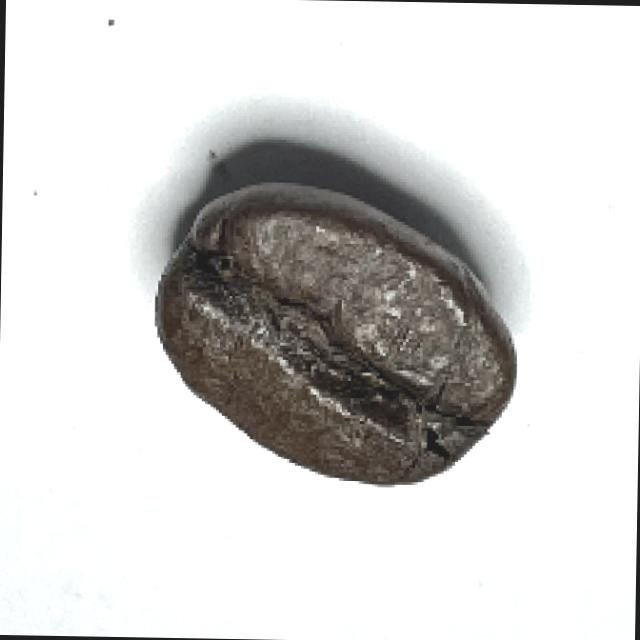bean: (147, 181, 522, 494)
